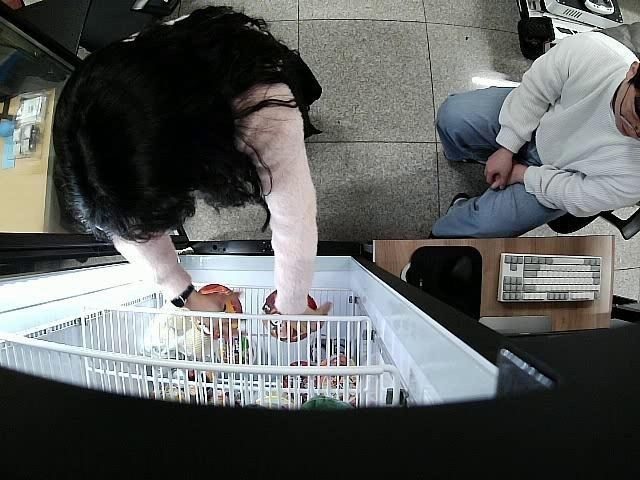05_nuguri_L: (262, 288, 316, 343), (197, 284, 244, 338)
